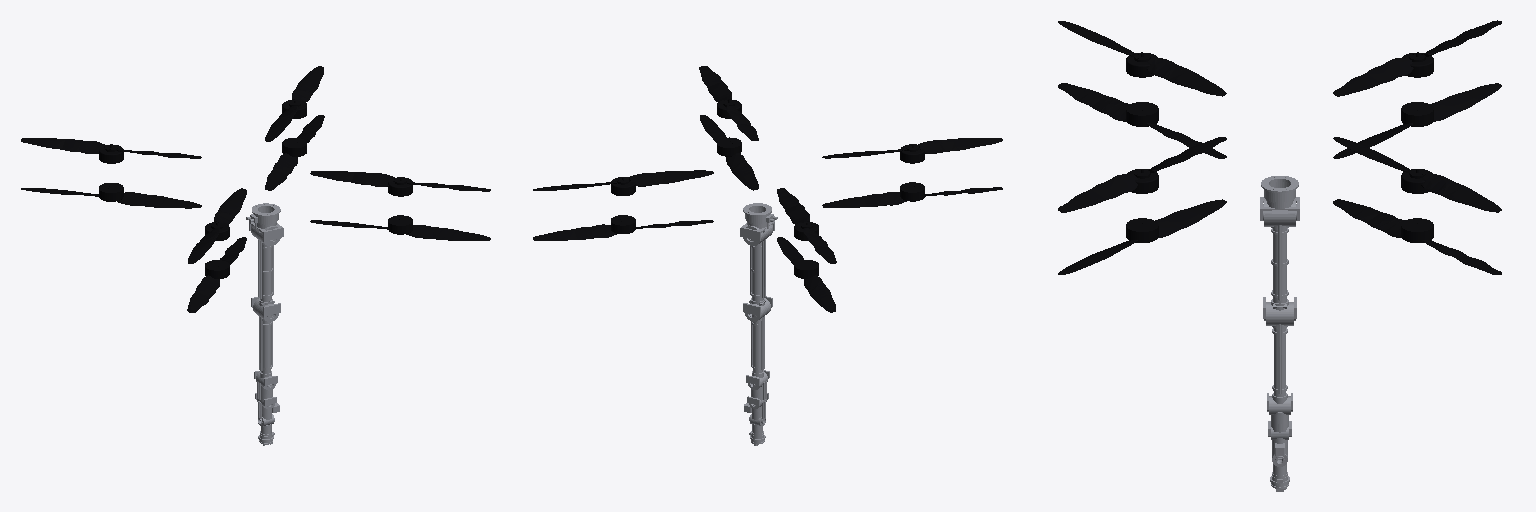
URDF robot description (avian):
<?xml version="1.0" ?>
<robot name="avian">
  <material name="avian_body">
    <color rgba="0.16 0.17 0.19 1"/>
  </material>
  <material name="avian_arm">
    <color rgba="0.62 0.63 0.66 1"/>
  </material>
  <material name="avian_rotor">
    <color rgba="0.08 0.08 0.09 1"/>
  </material>
  <link name="base_link">
    <inertial>
      <origin xyz="-0.010526 0.001674 -0.071259" rpy="0.000000 0.000000 0.000000"/>
      <mass value="18.657000"/>
      <inertia ixx="0.701195901" iyy="0.621899722" izz="0.850011909" ixy="-0.003980921" ixz="0.010856172" iyz="-0.001836605"/>
    </inertial>
    <collision name="body">
      <geometry>
        <box size="0.19720 0.19720 0.18000"/>
      </geometry>
      <origin xyz="0.000000 0.000000 -0.020000" rpy="0.000000 0.000000 0.000000"/>
    </collision>
    <collision name="arm_1">
      <geometry>
        <cylinder radius="0.01624" length="0.57500"/>
      </geometry>
      <origin xyz="0.203293 0.203293 0.000000" rpy="0.000000 1.570796 0.785398"/>
    </collision>
    <collision name="arm_2">
      <geometry>
        <cylinder radius="0.01624" length="0.57500"/>
      </geometry>
      <origin xyz="-0.203293 0.203293 0.000000" rpy="0.000000 1.570796 2.356194"/>
    </collision>
    <collision name="arm_3">
      <geometry>
        <cylinder radius="0.01624" length="0.57500"/>
      </geometry>
      <origin xyz="-0.203293 -0.203293 0.000000" rpy="0.000000 1.570796 3.926991"/>
    </collision>
    <collision name="arm_4">
      <geometry>
        <cylinder radius="0.01624" length="0.57500"/>
      </geometry>
      <origin xyz="0.203293 -0.203293 0.000000" rpy="0.000000 1.570796 5.497787"/>
    </collision>
    <visual name="cad">
      <geometry>
        <mesh filename="meshes/base_link.stl" scale="0.001 0.001 0.001"/>
      </geometry>
      <origin xyz="0.000000 0.000000 0.000000" rpy="0.000000 0.000000 0.000000"/>
      <material name="avian_body"/>
    </visual>
  </link>
  <link name="rotor_1_upper">
    <inertial>
      <origin xyz="0.000000 0.000000 0.000000" rpy="0.000000 0.000000 0.000000"/>
      <mass value="0.370000"/>
      <inertia ixx="0.011696751" iyy="0.011696751" izz="0.023393502" ixy="0.000000000" ixz="0.000000000" iyz="0.000000000"/>
    </inertial>
    <visual name="cad">
      <geometry>
        <mesh filename="meshes/rotor_1_upper.stl" scale="0.001 0.001 0.001"/>
      </geometry>
      <origin xyz="0.000000 0.000000 0.000000" rpy="0.000000 0.000000 0.000000"/>
      <material name="avian_rotor"/>
    </visual>
  </link>
  <joint name="rotor_1_upper_joint" type="continuous">
    <parent link="base_link"/>
    <child link="rotor_1_upper"/>
    <origin xyz="0.406586 0.406586 0.062000" rpy="0.000000 0.000000 0.000000"/>
    <axis xyz="0 0 1"/>
  </joint>
  <link name="rotor_1_lower">
    <inertial>
      <origin xyz="0.000000 0.000000 0.000000" rpy="0.000000 0.000000 0.000000"/>
      <mass value="0.370000"/>
      <inertia ixx="0.011696751" iyy="0.011696751" izz="0.023393502" ixy="0.000000000" ixz="0.000000000" iyz="0.000000000"/>
    </inertial>
    <visual name="cad">
      <geometry>
        <mesh filename="meshes/rotor_1_lower.stl" scale="0.001 0.001 0.001"/>
      </geometry>
      <origin xyz="0.000000 0.000000 0.000000" rpy="0.000000 0.000000 0.000000"/>
      <material name="avian_rotor"/>
    </visual>
  </link>
  <joint name="rotor_1_lower_joint" type="continuous">
    <parent link="base_link"/>
    <child link="rotor_1_lower"/>
    <origin xyz="0.406586 0.406586 -0.062000" rpy="0.000000 0.000000 0.000000"/>
    <axis xyz="0 0 1"/>
  </joint>
  <link name="rotor_2_upper">
    <inertial>
      <origin xyz="0.000000 0.000000 0.000000" rpy="0.000000 0.000000 0.000000"/>
      <mass value="0.370000"/>
      <inertia ixx="0.011696751" iyy="0.011696751" izz="0.023393502" ixy="0.000000000" ixz="0.000000000" iyz="0.000000000"/>
    </inertial>
    <visual name="cad">
      <geometry>
        <mesh filename="meshes/rotor_2_upper.stl" scale="0.001 0.001 0.001"/>
      </geometry>
      <origin xyz="0.000000 0.000000 0.000000" rpy="0.000000 0.000000 0.000000"/>
      <material name="avian_rotor"/>
    </visual>
  </link>
  <joint name="rotor_2_upper_joint" type="continuous">
    <parent link="base_link"/>
    <child link="rotor_2_upper"/>
    <origin xyz="-0.406586 0.406586 0.062000" rpy="0.000000 0.000000 0.000000"/>
    <axis xyz="0 0 1"/>
  </joint>
  <link name="rotor_2_lower">
    <inertial>
      <origin xyz="0.000000 0.000000 0.000000" rpy="0.000000 0.000000 0.000000"/>
      <mass value="0.370000"/>
      <inertia ixx="0.011696751" iyy="0.011696751" izz="0.023393502" ixy="0.000000000" ixz="0.000000000" iyz="0.000000000"/>
    </inertial>
    <visual name="cad">
      <geometry>
        <mesh filename="meshes/rotor_2_lower.stl" scale="0.001 0.001 0.001"/>
      </geometry>
      <origin xyz="0.000000 0.000000 0.000000" rpy="0.000000 0.000000 0.000000"/>
      <material name="avian_rotor"/>
    </visual>
  </link>
  <joint name="rotor_2_lower_joint" type="continuous">
    <parent link="base_link"/>
    <child link="rotor_2_lower"/>
    <origin xyz="-0.406586 0.406586 -0.062000" rpy="0.000000 0.000000 0.000000"/>
    <axis xyz="0 0 1"/>
  </joint>
  <link name="rotor_3_upper">
    <inertial>
      <origin xyz="0.000000 0.000000 0.000000" rpy="0.000000 0.000000 0.000000"/>
      <mass value="0.370000"/>
      <inertia ixx="0.011696751" iyy="0.011696751" izz="0.023393502" ixy="0.000000000" ixz="0.000000000" iyz="0.000000000"/>
    </inertial>
    <visual name="cad">
      <geometry>
        <mesh filename="meshes/rotor_3_upper.stl" scale="0.001 0.001 0.001"/>
      </geometry>
      <origin xyz="0.000000 0.000000 0.000000" rpy="0.000000 0.000000 0.000000"/>
      <material name="avian_rotor"/>
    </visual>
  </link>
  <joint name="rotor_3_upper_joint" type="continuous">
    <parent link="base_link"/>
    <child link="rotor_3_upper"/>
    <origin xyz="-0.406586 -0.406586 0.062000" rpy="0.000000 0.000000 0.000000"/>
    <axis xyz="0 0 1"/>
  </joint>
  <link name="rotor_3_lower">
    <inertial>
      <origin xyz="0.000000 0.000000 0.000000" rpy="0.000000 0.000000 0.000000"/>
      <mass value="0.370000"/>
      <inertia ixx="0.011696751" iyy="0.011696751" izz="0.023393502" ixy="0.000000000" ixz="0.000000000" iyz="0.000000000"/>
    </inertial>
    <visual name="cad">
      <geometry>
        <mesh filename="meshes/rotor_3_lower.stl" scale="0.001 0.001 0.001"/>
      </geometry>
      <origin xyz="0.000000 0.000000 0.000000" rpy="0.000000 0.000000 0.000000"/>
      <material name="avian_rotor"/>
    </visual>
  </link>
  <joint name="rotor_3_lower_joint" type="continuous">
    <parent link="base_link"/>
    <child link="rotor_3_lower"/>
    <origin xyz="-0.406586 -0.406586 -0.062000" rpy="0.000000 0.000000 0.000000"/>
    <axis xyz="0 0 1"/>
  </joint>
  <link name="rotor_4_upper">
    <inertial>
      <origin xyz="0.000000 0.000000 0.000000" rpy="0.000000 0.000000 0.000000"/>
      <mass value="0.370000"/>
      <inertia ixx="0.011696751" iyy="0.011696751" izz="0.023393502" ixy="0.000000000" ixz="0.000000000" iyz="0.000000000"/>
    </inertial>
    <visual name="cad">
      <geometry>
        <mesh filename="meshes/rotor_4_upper.stl" scale="0.001 0.001 0.001"/>
      </geometry>
      <origin xyz="0.000000 0.000000 0.000000" rpy="0.000000 0.000000 0.000000"/>
      <material name="avian_rotor"/>
    </visual>
  </link>
  <joint name="rotor_4_upper_joint" type="continuous">
    <parent link="base_link"/>
    <child link="rotor_4_upper"/>
    <origin xyz="0.406586 -0.406586 0.062000" rpy="0.000000 0.000000 0.000000"/>
    <axis xyz="0 0 1"/>
  </joint>
  <link name="rotor_4_lower">
    <inertial>
      <origin xyz="0.000000 0.000000 0.000000" rpy="0.000000 0.000000 0.000000"/>
      <mass value="0.370000"/>
      <inertia ixx="0.011696751" iyy="0.011696751" izz="0.023393502" ixy="0.000000000" ixz="0.000000000" iyz="0.000000000"/>
    </inertial>
    <visual name="cad">
      <geometry>
        <mesh filename="meshes/rotor_4_lower.stl" scale="0.001 0.001 0.001"/>
      </geometry>
      <origin xyz="0.000000 0.000000 0.000000" rpy="0.000000 0.000000 0.000000"/>
      <material name="avian_rotor"/>
    </visual>
  </link>
  <joint name="rotor_4_lower_joint" type="continuous">
    <parent link="base_link"/>
    <child link="rotor_4_lower"/>
    <origin xyz="0.406586 -0.406586 -0.062000" rpy="0.000000 0.000000 0.000000"/>
    <axis xyz="0 0 1"/>
  </joint>
  <link name="arm_base_link">
    <inertial>
      <origin xyz="0.325000 0.000000 -0.037700" rpy="0.000000 0.000000 0.000000"/>
      <mass value="0.105000"/>
      <inertia ixx="0.000001000" iyy="0.000001000" izz="0.000001000" ixy="0.000000000" ixz="0.000000000" iyz="0.000000000"/>
    </inertial>
    <collision name="hub">
      <geometry>
        <cylinder radius="0.04800" length="0.07800"/>
      </geometry>
      <origin xyz="0.000000 0.000000 0.000000" rpy="0.000000 0.000000 0.000000"/>
    </collision>
    <visual name="cad">
      <geometry>
        <mesh filename="meshes/arm_base_link.stl" scale="0.001 0.001 0.001"/>
      </geometry>
      <origin xyz="0.000000 0.000000 0.000000" rpy="0.000000 0.000000 0.000000"/>
      <material name="avian_arm"/>
    </visual>
  </link>
  <joint name="arm_base_joint" type="fixed">
    <parent link="base_link"/>
    <child link="arm_base_link"/>
    <origin xyz="0.045000 0.000000 -0.095000" rpy="0.000000 0.000000 0.000000"/>
  </joint>
  <link name="link_1">
    <inertial>
      <origin xyz="0.000000 0.000000 -0.042800" rpy="0.000000 0.000000 0.000000"/>
      <mass value="0.325000"/>
      <inertia ixx="0.000001000" iyy="0.000001000" izz="0.000001000" ixy="0.000000000" ixz="0.000000000" iyz="0.000000000"/>
    </inertial>
    <collision name="body">
      <geometry>
        <cylinder radius="0.04800" length="0.29700"/>
      </geometry>
      <origin xyz="0.000000 0.000000 -0.165000" rpy="0.000000 0.000000 0.000000"/>
    </collision>
    <visual name="cad">
      <geometry>
        <mesh filename="meshes/link_1.stl" scale="0.001 0.001 0.001"/>
      </geometry>
      <origin xyz="0.000000 0.000000 0.000000" rpy="0.000000 0.000000 0.000000"/>
      <material name="avian_arm"/>
    </visual>
  </link>
  <joint name="J1" type="revolute">
    <parent link="arm_base_link"/>
    <child link="link_1"/>
    <origin xyz="0.000000 0.000000 0.000000" rpy="0.000000 0.000000 0.000000"/>
    <axis xyz="0.0 0.0 1.0"/>
    <limit lower="-3.141593" upper="3.141593" effort="24.000" velocity="1.570796"/>
    <dynamics damping="0.06" friction="0.02"/>
  </joint>
  <link name="link_2">
    <inertial>
      <origin xyz="0.136500 0.000000 0.024100" rpy="0.000000 0.000000 0.000000"/>
      <mass value="0.450000"/>
      <inertia ixx="0.000001000" iyy="0.000001000" izz="0.000001000" ixy="0.000000000" ixz="0.000000000" iyz="0.000000000"/>
    </inertial>
    <collision name="body">
      <geometry>
        <cylinder radius="0.04100" length="0.27000"/>
      </geometry>
      <origin xyz="0.000000 0.000000 -0.150000" rpy="0.000000 0.000000 0.000000"/>
    </collision>
    <visual name="cad">
      <geometry>
        <mesh filename="meshes/link_2.stl" scale="0.001 0.001 0.001"/>
      </geometry>
      <origin xyz="0.000000 0.000000 0.000000" rpy="0.000000 0.000000 0.000000"/>
      <material name="avian_arm"/>
    </visual>
  </link>
  <joint name="J2" type="revolute">
    <parent link="link_1"/>
    <child link="link_2"/>
    <origin xyz="0.000000 0.000000 -0.095000" rpy="0.000000 0.000000 0.000000"/>
    <axis xyz="0.0 -1.0 0.0"/>
    <limit lower="-2.007129" upper="2.007129" effort="40.000" velocity="1.047198"/>
    <dynamics damping="0.06" friction="0.02"/>
  </joint>
  <link name="link_3">
    <inertial>
      <origin xyz="0.202600 0.000000 0.337900" rpy="0.000000 0.000000 0.000000"/>
      <mass value="0.360000"/>
      <inertia ixx="0.000001000" iyy="0.000001000" izz="0.000001000" ixy="0.000000000" ixz="0.000000000" iyz="0.000000000"/>
    </inertial>
    <collision name="body">
      <geometry>
        <cylinder radius="0.03500" length="0.07650"/>
      </geometry>
      <origin xyz="0.000000 0.000000 -0.042500" rpy="0.000000 0.000000 0.000000"/>
    </collision>
    <visual name="cad">
      <geometry>
        <mesh filename="meshes/link_3.stl" scale="0.001 0.001 0.001"/>
      </geometry>
      <origin xyz="0.000000 0.000000 0.000000" rpy="0.000000 0.000000 0.000000"/>
      <material name="avian_arm"/>
    </visual>
  </link>
  <joint name="J3" type="revolute">
    <parent link="link_2"/>
    <child link="link_3"/>
    <origin xyz="0.000000 0.000000 -0.330000" rpy="0.000000 0.000000 0.000000"/>
    <axis xyz="0.0 -1.0 0.0"/>
    <limit lower="-2.792527" upper="2.792527" effort="25.000" velocity="1.221730"/>
    <dynamics damping="0.06" friction="0.02"/>
  </joint>
  <link name="link_4">
    <inertial>
      <origin xyz="0.011400 0.000000 0.560600" rpy="0.000000 0.000000 0.000000"/>
      <mass value="0.143000"/>
      <inertia ixx="0.000001000" iyy="0.000001000" izz="0.000001000" ixy="0.000000000" ixz="0.000000000" iyz="0.000000000"/>
    </inertial>
    <collision name="body">
      <geometry>
        <cylinder radius="0.02800" length="0.07200"/>
      </geometry>
      <origin xyz="0.000000 0.000000 -0.040000" rpy="0.000000 0.000000 0.000000"/>
    </collision>
    <visual name="cad">
      <geometry>
        <mesh filename="meshes/link_4.stl" scale="0.001 0.001 0.001"/>
      </geometry>
      <origin xyz="0.000000 0.000000 0.000000" rpy="0.000000 0.000000 0.000000"/>
      <material name="avian_arm"/>
    </visual>
  </link>
  <joint name="J4" type="revolute">
    <parent link="link_3"/>
    <child link="link_4"/>
    <origin xyz="0.000000 0.000000 -0.300000" rpy="0.000000 0.000000 0.000000"/>
    <axis xyz="0.0 0.0 -1.0"/>
    <limit lower="-3.141593" upper="3.141593" effort="8.000" velocity="2.617994"/>
    <dynamics damping="0.06" friction="0.02"/>
  </joint>
  <link name="link_5">
    <inertial>
      <origin xyz="-0.032000 0.000000 0.592100" rpy="0.000000 0.000000 0.000000"/>
      <mass value="0.127000"/>
      <inertia ixx="0.000001000" iyy="0.000001000" izz="0.000001000" ixy="0.000000000" ixz="0.000000000" iyz="0.000000000"/>
    </inertial>
    <collision name="body">
      <geometry>
        <cylinder radius="0.02500" length="0.05400"/>
      </geometry>
      <origin xyz="0.000000 0.000000 -0.030000" rpy="0.000000 0.000000 0.000000"/>
    </collision>
    <visual name="cad">
      <geometry>
        <mesh filename="meshes/link_5.stl" scale="0.001 0.001 0.001"/>
      </geometry>
      <origin xyz="0.000000 0.000000 0.000000" rpy="0.000000 0.000000 0.000000"/>
      <material name="avian_arm"/>
    </visual>
  </link>
  <joint name="J5" type="revolute">
    <parent link="link_4"/>
    <child link="link_5"/>
    <origin xyz="0.000000 0.000000 -0.085000" rpy="0.000000 0.000000 0.000000"/>
    <axis xyz="0.0 -1.0 0.0"/>
    <limit lower="-2.094395" upper="2.094395" effort="10.000" velocity="2.094395"/>
    <dynamics damping="0.06" friction="0.02"/>
  </joint>
  <link name="link_6">
    <inertial>
      <origin xyz="-0.032000 0.000000 0.601100" rpy="0.000000 0.000000 0.000000"/>
      <mass value="0.108000"/>
      <inertia ixx="0.000001000" iyy="0.000001000" izz="0.000001000" ixy="0.000000000" ixz="0.000000000" iyz="0.000000000"/>
    </inertial>
    <collision name="body">
      <geometry>
        <cylinder radius="0.02300" length="0.05400"/>
      </geometry>
      <origin xyz="0.000000 0.000000 -0.030000" rpy="0.000000 0.000000 0.000000"/>
    </collision>
    <visual name="cad">
      <geometry>
        <mesh filename="meshes/link_6.stl" scale="0.001 0.001 0.001"/>
      </geometry>
      <origin xyz="0.000000 0.000000 0.000000" rpy="0.000000 0.000000 0.000000"/>
      <material name="avian_arm"/>
    </visual>
  </link>
  <joint name="J6" type="revolute">
    <parent link="link_5"/>
    <child link="link_6"/>
    <origin xyz="0.000000 0.000000 -0.080000" rpy="0.000000 0.000000 0.000000"/>
    <axis xyz="1.0 0.0 0.0"/>
    <limit lower="-3.141593" upper="3.141593" effort="8.000" velocity="2.617994"/>
    <dynamics damping="0.06" friction="0.02"/>
  </joint>
  <link name="tool0">
    <inertial>
      <origin xyz="-0.032000 0.000000 0.593300" rpy="0.000000 0.000000 0.000000"/>
      <mass value="0.450000"/>
      <inertia ixx="0.000069552" iyy="0.000069552" izz="0.000001000" ixy="0.000000000" ixz="0.000000000" iyz="0.000000000"/>
    </inertial>
    <collision name="tool">
      <geometry>
        <cylinder radius="0.01100" length="0.03800"/>
      </geometry>
      <origin xyz="0.000000 0.000000 -0.019000" rpy="0.000000 0.000000 0.000000"/>
    </collision>
    <visual name="cad">
      <geometry>
        <mesh filename="meshes/tool0.stl" scale="0.001 0.001 0.001"/>
      </geometry>
      <origin xyz="0.000000 0.000000 0.000000" rpy="0.000000 0.000000 0.000000"/>
      <material name="avian_arm"/>
    </visual>
  </link>
  <joint name="tool0_joint" type="fixed">
    <parent link="link_6"/>
    <child link="tool0"/>
    <origin xyz="0.000000 0.000000 -0.060000" rpy="0.000000 0.000000 0.000000"/>
  </joint>
  <link name="nozzle_tip">
    <inertial>
      <origin xyz="0.000000 0.000000 0.000000" rpy="0.000000 0.000000 0.000000"/>
      <mass value="0.001"/>
      <inertia ixx="0.000001000" iyy="0.000001000" izz="0.000001000" ixy="0" ixz="0" iyz="0"/>
    </inertial>
    <visual name="tip">
      <geometry>
        <cylinder radius="0.00120" length="0.02600"/>
      </geometry>
      <origin xyz="0.000000 0.000000 -0.013000" rpy="0.000000 0.000000 0.000000"/>
      <material name="avian_arm"/>
    </visual>
  </link>
  <joint name="nozzle_tip_joint" type="fixed">
    <parent link="tool0"/>
    <child link="nozzle_tip"/>
    <origin xyz="0.000000 0.000000 0.015000" rpy="0.000000 0.000000 0.000000"/>
  </joint>
  <link name="sensor_rgb_front">
    <inertial>
      <origin xyz="0.000000 0.000000 0.000000" rpy="0.000000 0.000000 0.000000"/>
      <mass value="0.001"/>
      <inertia ixx="0.000001000" iyy="0.000001000" izz="0.000001000" ixy="0" ixz="0" iyz="0"/>
    </inertial>
  </link>
  <joint name="sensor_rgb_front_joint" type="fixed">
    <parent link="base_link"/>
    <child link="sensor_rgb_front"/>
    <origin xyz="0.220000 0.000000 -0.020000" rpy="1.570796 -0.000000 -1.570796"/>
  </joint>
  <link name="sensor_rgb_down">
    <inertial>
      <origin xyz="0.000000 0.000000 0.000000" rpy="0.000000 0.000000 0.000000"/>
      <mass value="0.001"/>
      <inertia ixx="0.000001000" iyy="0.000001000" izz="0.000001000" ixy="0" ixz="0" iyz="0"/>
    </inertial>
  </link>
  <joint name="sensor_rgb_down_joint" type="fixed">
    <parent link="base_link"/>
    <child link="sensor_rgb_down"/>
    <origin xyz="0.020000 0.000000 -0.110000" rpy="0.000000 0.000000 -1.570796"/>
  </joint>
  <link name="sensor_rgb_side">
    <inertial>
      <origin xyz="0.000000 0.000000 0.000000" rpy="0.000000 0.000000 0.000000"/>
      <mass value="0.001"/>
      <inertia ixx="0.000001000" iyy="0.000001000" izz="0.000001000" ixy="0" ixz="0" iyz="0"/>
    </inertial>
  </link>
  <joint name="sensor_rgb_side_joint" type="fixed">
    <parent link="base_link"/>
    <child link="sensor_rgb_side"/>
    <origin xyz="0.050000 -0.190000 -0.020000" rpy="1.361357 0.000000 -3.141593"/>
  </joint>
  <link name="sensor_depth">
    <inertial>
      <origin xyz="0.000000 0.000000 0.000000" rpy="0.000000 0.000000 0.000000"/>
      <mass value="0.001"/>
      <inertia ixx="0.000001000" iyy="0.000001000" izz="0.000001000" ixy="0" ixz="0" iyz="0"/>
    </inertial>
  </link>
  <joint name="sensor_depth_joint" type="fixed">
    <parent link="base_link"/>
    <child link="sensor_depth"/>
    <origin xyz="0.200000 0.000000 0.040000" rpy="1.570796 -0.000000 -1.570796"/>
  </joint>
  <link name="sensor_lidar">
    <inertial>
      <origin xyz="0.000000 0.000000 0.000000" rpy="0.000000 0.000000 0.000000"/>
      <mass value="0.001"/>
      <inertia ixx="0.000001000" iyy="0.000001000" izz="0.000001000" ixy="0" ixz="0" iyz="0"/>
    </inertial>
  </link>
  <joint name="sensor_lidar_joint" type="fixed">
    <parent link="base_link"/>
    <child link="sensor_lidar"/>
    <origin xyz="0.000000 0.000000 0.130000" rpy="0.000000 -0.000000 0.000000"/>
  </joint>
  <link name="sensor_thermal">
    <inertial>
      <origin xyz="0.000000 0.000000 0.000000" rpy="0.000000 0.000000 0.000000"/>
      <mass value="0.001"/>
      <inertia ixx="0.000001000" iyy="0.000001000" izz="0.000001000" ixy="0" ixz="0" iyz="0"/>
    </inertial>
  </link>
  <joint name="sensor_thermal_joint" type="fixed">
    <parent link="base_link"/>
    <child link="sensor_thermal"/>
    <origin xyz="0.200000 0.100000 -0.020000" rpy="1.570796 -0.000000 -1.570796"/>
  </joint>
  <link name="sensor_imu">
    <inertial>
      <origin xyz="0.000000 0.000000 0.000000" rpy="0.000000 0.000000 0.000000"/>
      <mass value="0.001"/>
      <inertia ixx="0.000001000" iyy="0.000001000" izz="0.000001000" ixy="0" ixz="0" iyz="0"/>
    </inertial>
  </link>
  <joint name="sensor_imu_joint" type="fixed">
    <parent link="base_link"/>
    <child link="sensor_imu"/>
    <origin xyz="0.000000 0.000000 0.000000" rpy="0.000000 -0.000000 0.000000"/>
  </joint>
</robot>

--- What the picture shows (computed from the rendered views, not written in the file) ---
The picture shows the robot from 3 angles, left to right: view 1: azimuth 30°, elevation 25°; view 2: azimuth 150°, elevation 25°; view 3: azimuth 270°, elevation 25°; orthographic projection.
Model avian with 25 links and 24 joints (6 revolute, 8 continuous, 10 fixed), rooted at base_link, posed all joints at 0.
Visible links, largest first — view 1: rotor_4_upper, rotor_4_lower, rotor_2_lower, rotor_2_upper, rotor_1_lower, rotor_1_upper, link_2, rotor_3_lower, rotor_3_upper, link_3, link_1; view 2: rotor_3_upper, rotor_3_lower, rotor_1_upper, rotor_1_lower, rotor_2_upper, link_2, rotor_2_lower, rotor_4_lower, rotor_4_upper, link_3, link_1; view 3: rotor_4_upper, rotor_1_upper, rotor_3_upper, rotor_2_upper, rotor_1_lower, rotor_4_lower, rotor_2_lower, rotor_3_lower, link_2, link_3, link_4, link_1 (+1 smaller).
Link boxes in pixels (x1=…): rotor_4_upper: x1=310, y1=171, x2=490, y2=196; rotor_4_lower: x1=310, y1=215, x2=490, y2=240; rotor_2_lower: x1=21, y1=183, x2=201, y2=208; rotor_2_upper: x1=21, y1=138, x2=201, y2=163; rotor_1_lower: x1=265, y1=115, x2=324, y2=190; rotor_1_upper: x1=265, y1=66, x2=323, y2=141; link_2: x1=251, y1=225, x2=280, y2=316; rotor_3_lower: x1=187, y1=237, x2=246, y2=312; rotor_3_upper: x1=188, y1=188, x2=246, y2=263; link_3: x1=253, y1=298, x2=278, y2=385; link_1: x1=249, y1=205, x2=283, y2=241; rotor_3_upper: x1=822, y1=138, x2=1002, y2=163; rotor_3_lower: x1=822, y1=182, x2=1002, y2=207; rotor_1_upper: x1=533, y1=170, x2=713, y2=195; rotor_1_lower: x1=533, y1=215, x2=713, y2=240; rotor_2_upper: x1=777, y1=188, x2=836, y2=263; link_2: x1=743, y1=225, x2=772, y2=315; rotor_2_lower: x1=777, y1=237, x2=835, y2=312; rotor_4_lower: x1=700, y1=115, x2=758, y2=190; rotor_4_upper: x1=699, y1=66, x2=758, y2=140; link_3: x1=745, y1=298, x2=770, y2=385; link_1: x1=740, y1=204, x2=774, y2=240; rotor_4_upper: x1=1058, y1=137, x2=1226, y2=212; rotor_1_upper: x1=1333, y1=137, x2=1501, y2=212; rotor_3_upper: x1=1058, y1=21, x2=1226, y2=96; rotor_2_upper: x1=1333, y1=20, x2=1501, y2=96; rotor_1_lower: x1=1333, y1=199, x2=1501, y2=274; rotor_4_lower: x1=1058, y1=199, x2=1226, y2=274; rotor_2_lower: x1=1333, y1=83, x2=1501, y2=158; rotor_3_lower: x1=1058, y1=83, x2=1226, y2=158; link_2: x1=1263, y1=199, x2=1296, y2=318; link_3: x1=1264, y1=302, x2=1295, y2=409; link_4: x1=1267, y1=396, x2=1292, y2=435; link_1: x1=1260, y1=177, x2=1299, y2=220.
Size in the robot's own frame: 1.34 by 1.31 by 1.21 metres.
16 mesh visuals loaded from 17 distinct referenced files (16 binary STL); not drawn: 1 (reference not matched to a file when rendering).
